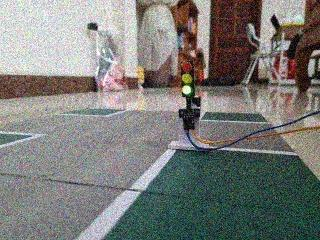green: (168, 50, 209, 105)
